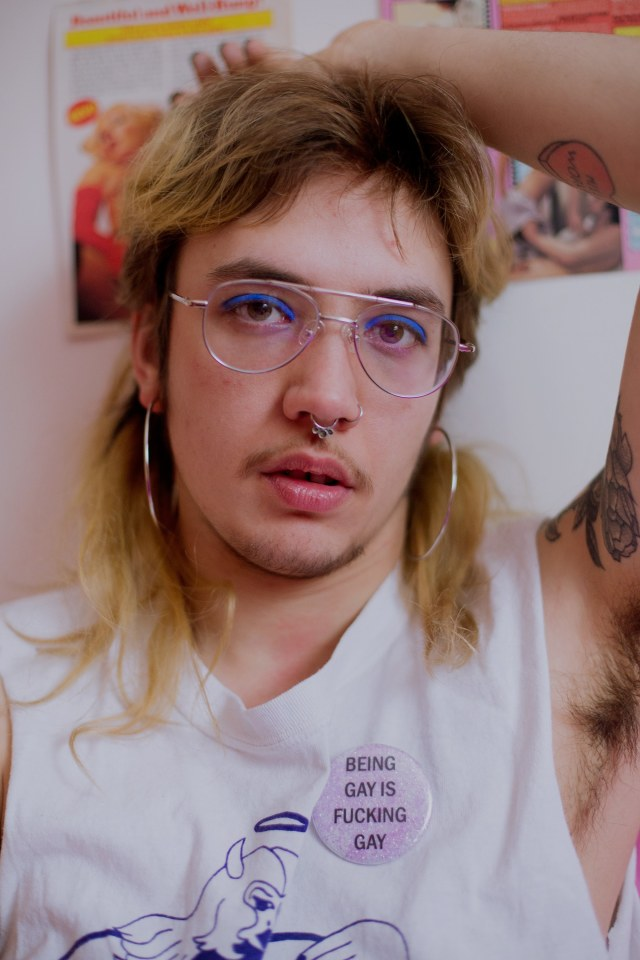bare: (165, 347, 436, 586)
